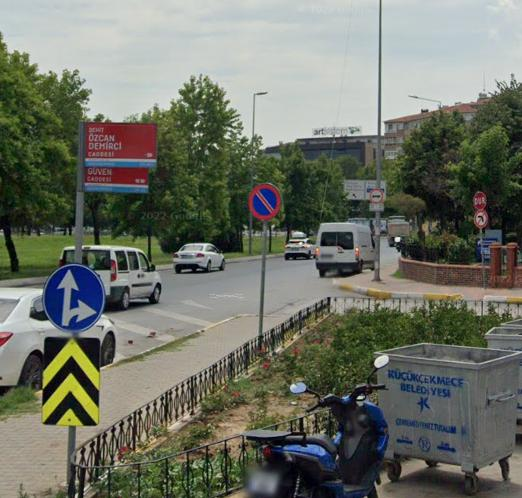nopark: (249, 185, 281, 222)
